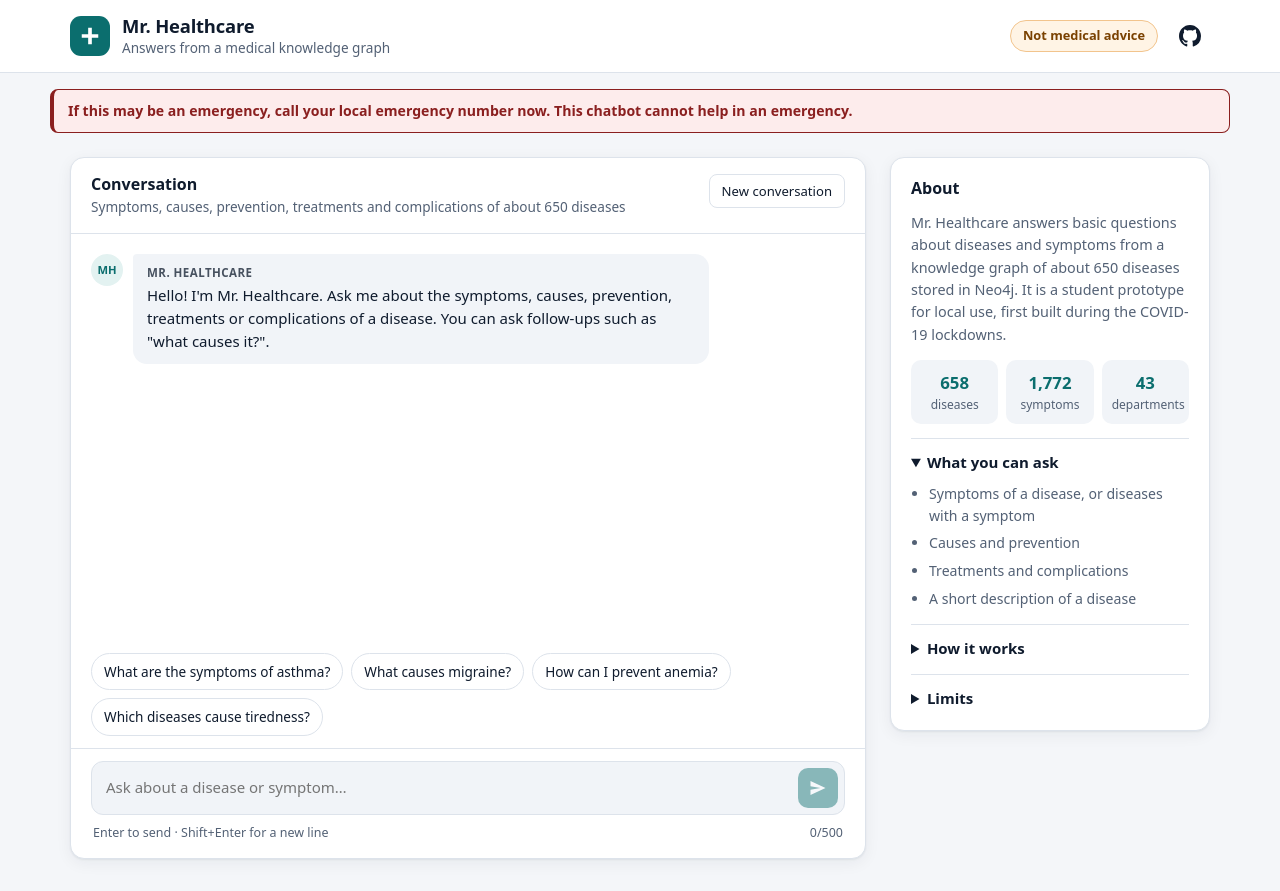
Scenario: App › sends the question through the real transport, with no credentials, and shows the reply
Type "what causes asthma?" into the text box with placeholder "Ask about a disease or symptom…" at (448, 788), box x1=106 y1=768 x2=790 y2=808
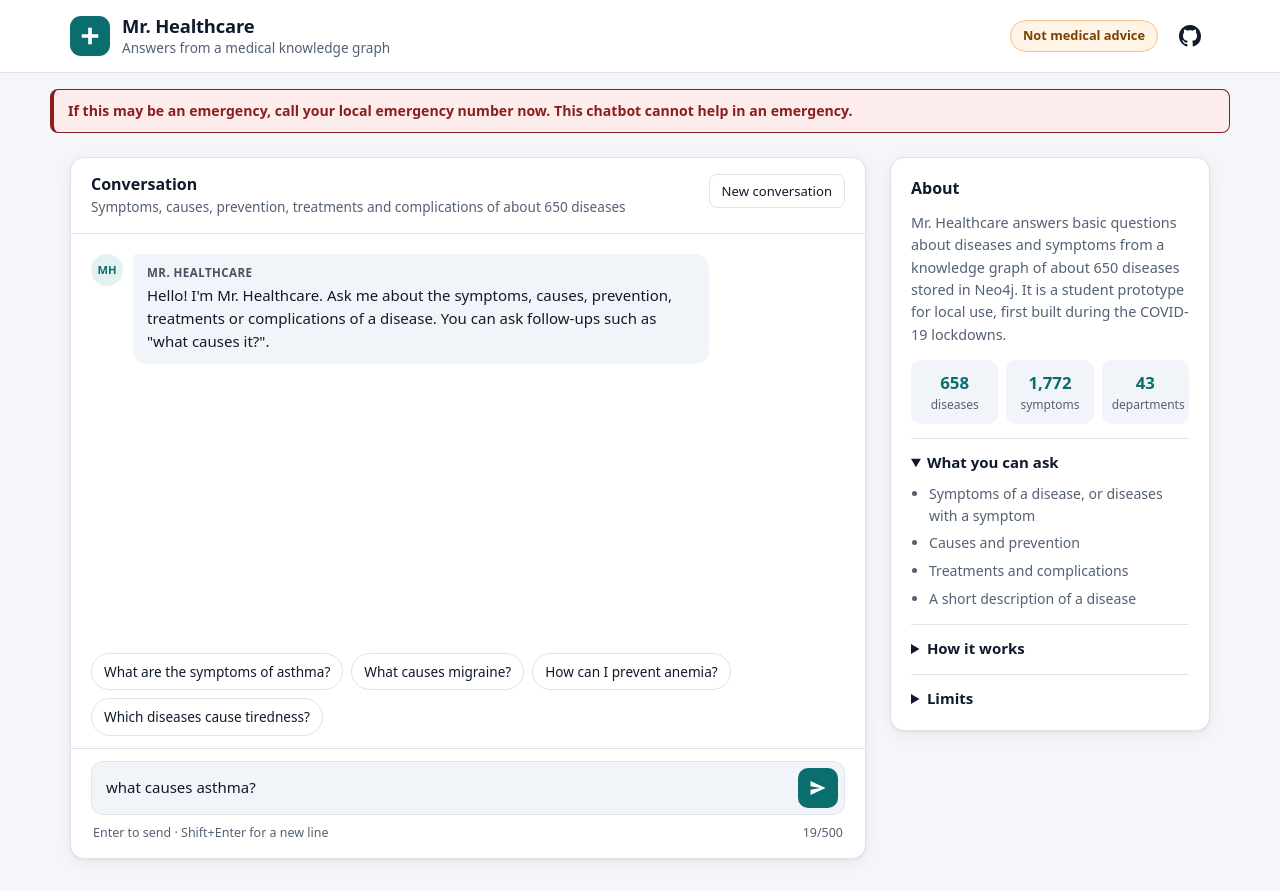
Press Enter in the text box, box x1=106 y1=768 x2=790 y2=808
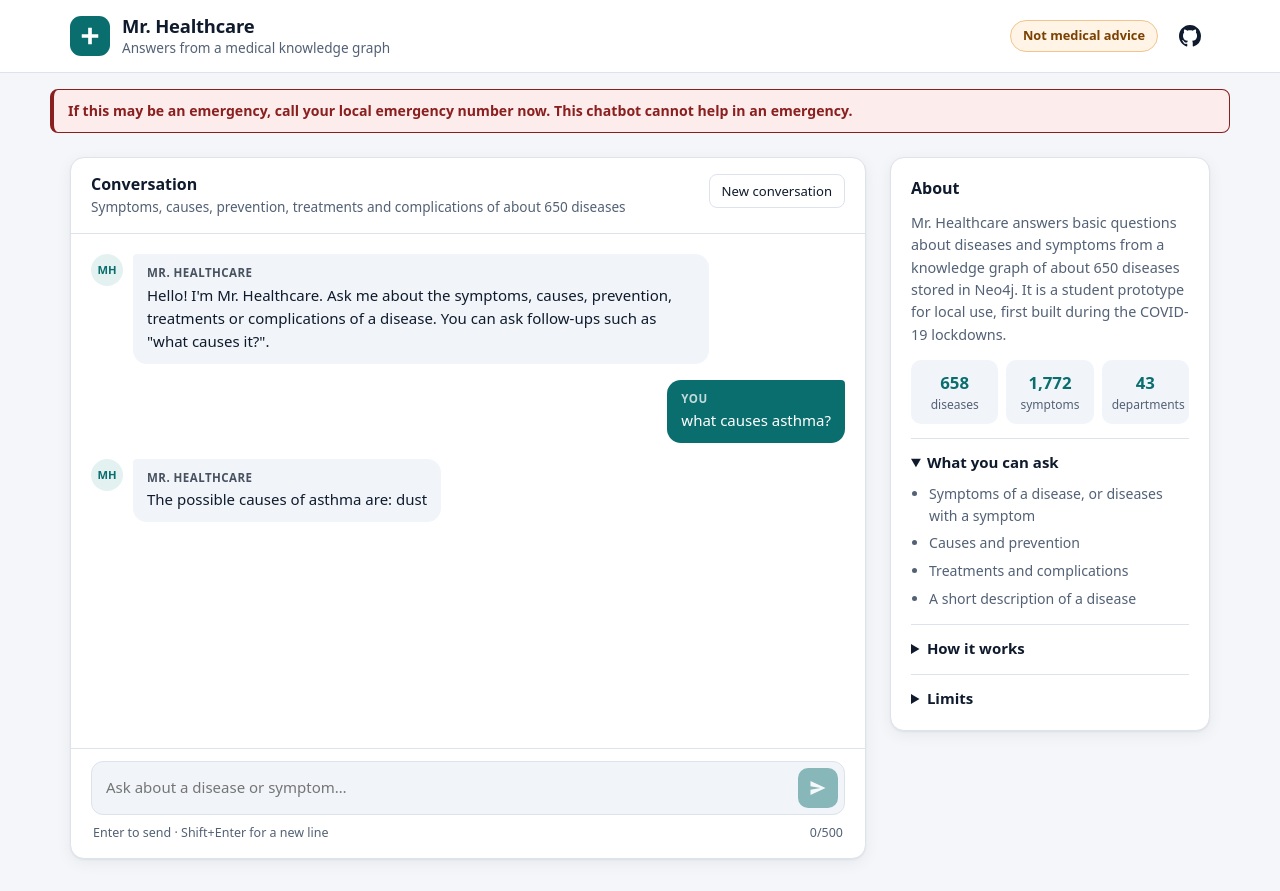
Expected: the list named "Conversation" shows "The possible causes of asthma are: dust", x1=147 y1=490 x2=427 y2=510
